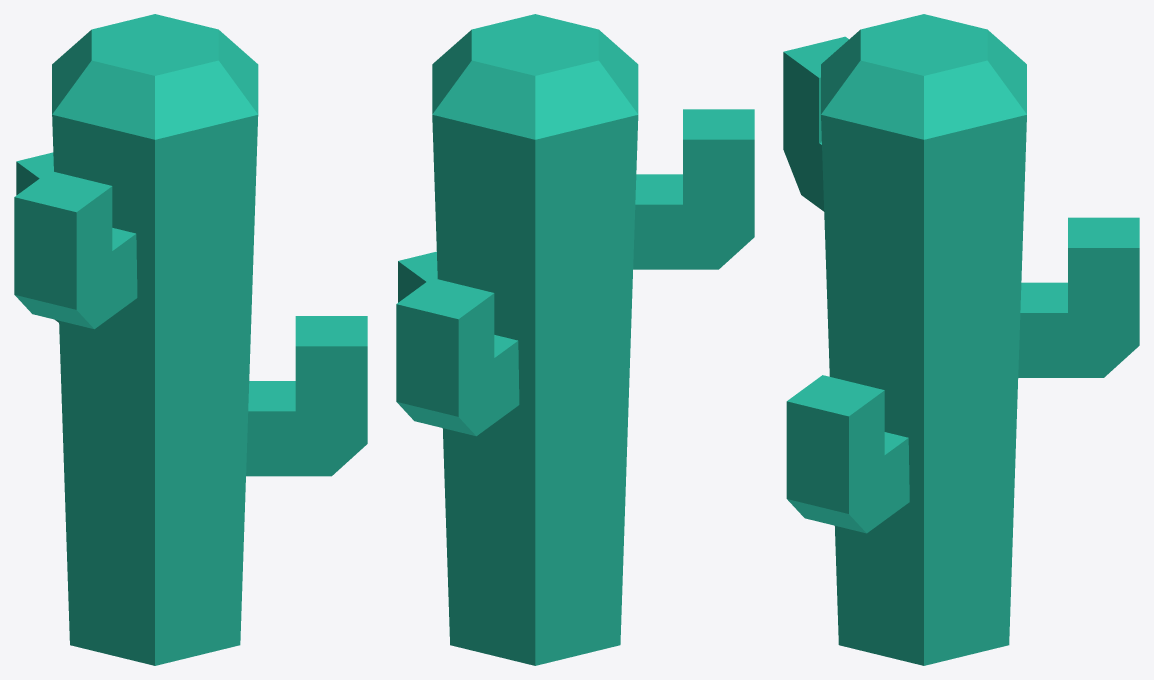
The model's file is cactus_short.obj.
The picture shows the model from 3 angles, left to right: view 1: azimuth 30°, elevation 25°; view 2: azimuth 150°, elevation 25°; view 3: azimuth 270°, elevation 25°; orthographic projection.
Parts seen in each view (by area): view 1: cactus_short; view 2: cactus_short; view 3: cactus_short.
Part boxes in pixels (x1=…): cactus_short: x1=14, y1=14, x2=367, y2=665; cactus_short: x1=396, y1=14, x2=754, y2=665; cactus_short: x1=783, y1=14, x2=1139, y2=665.
Size of the model in its own units: 0.3417 by 0.533 by 0.2972.
